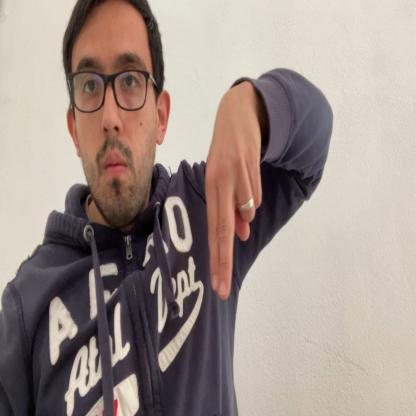N: (206, 94, 264, 300)
